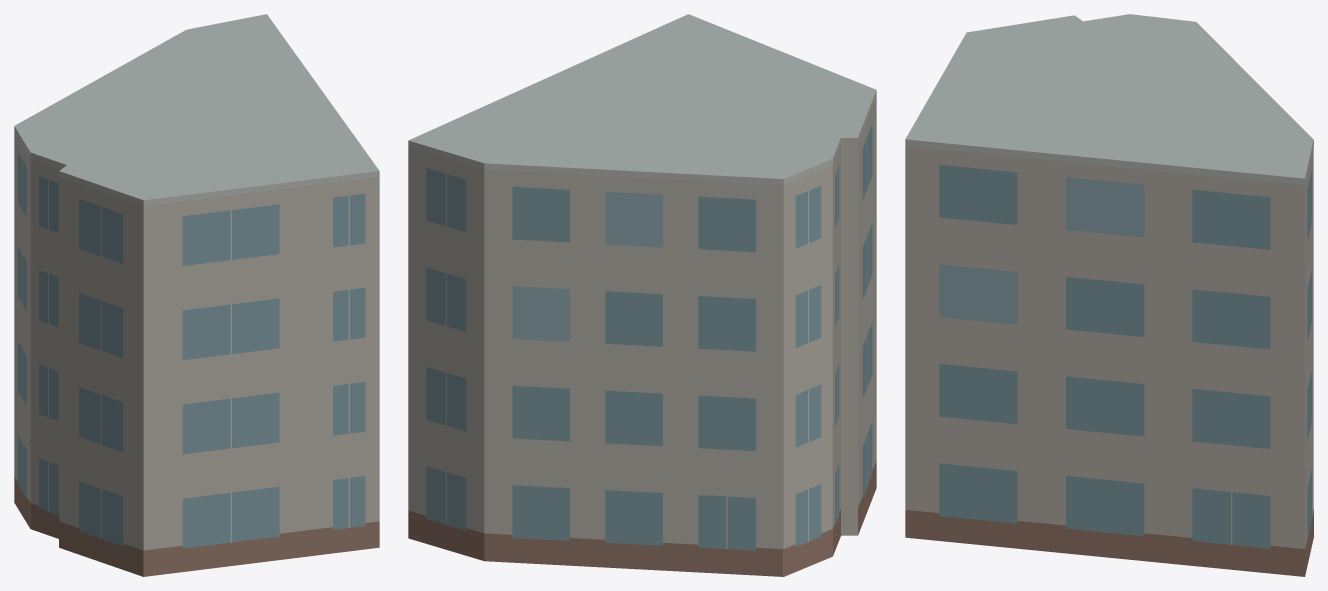
Rendered from survey-upis-33042785.glb.
3 renders of one model, left to right at view 1: azimuth 30°, elevation 25°; view 2: azimuth 150°, elevation 25°; view 3: azimuth 270°, elevation 25°, orthographic. The views are drawn at different scales.
Parts seen in each view (by area): view 1: survey-upis-33042785.tmp; view 2: survey-upis-33042785.tmp; view 3: survey-upis-33042785.tmp.
Part boxes in pixels (<box>): survey-upis-33042785.tmp: <box>14,14,379,576</box>; survey-upis-33042785.tmp: <box>408,14,876,576</box>; survey-upis-33042785.tmp: <box>905,14,1313,576</box>.
Size of the model in its own units: 13.26 by 14.95 by 13.91.
